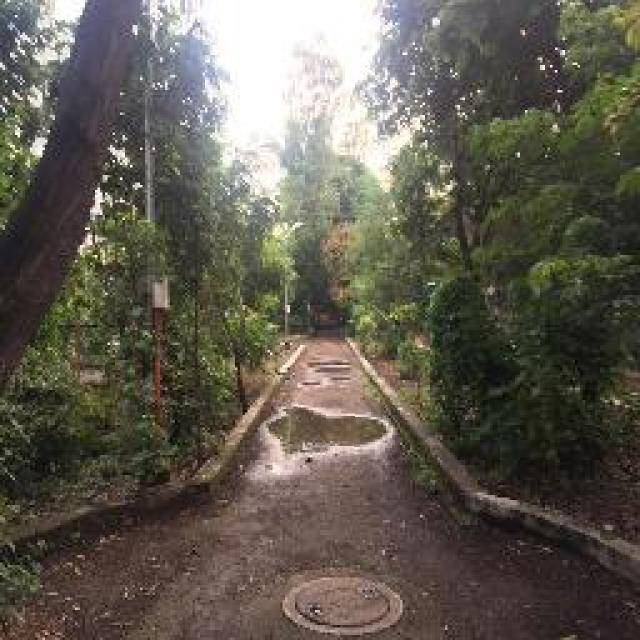puddle: (261, 403, 393, 462)
